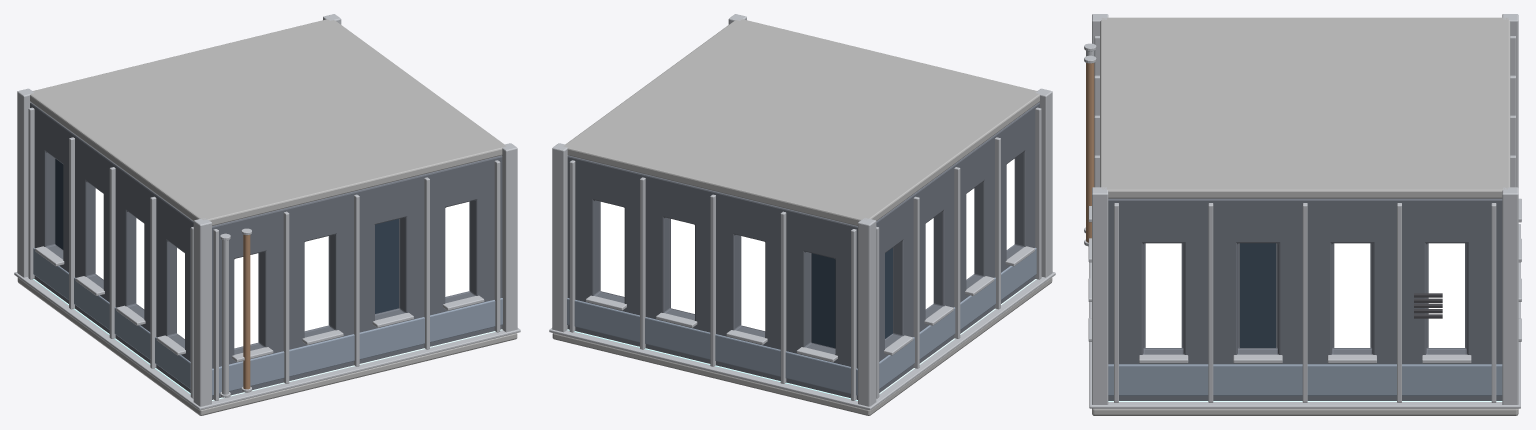
File: office_5x5.glb
The picture shows the model from 3 angles, left to right: view 1: azimuth 30°, elevation 25°; view 2: azimuth 150°, elevation 25°; view 3: azimuth 270°, elevation 25°; orthographic projection. The views are drawn at different scales.
Visible parts, largest first — view 1: int_ceiling, ext_wall, ext_frames, ext_spandrel, int_columns, ext_panes_lit, int_slab_edge, int_slab, ext_panes_dark, ext_pipe1, ext_pipe0, int_grid; view 2: int_ceiling, ext_wall, ext_frames, ext_spandrel, ext_panes_lit, int_columns, int_slab_edge, int_slab, ext_panes_dark, int_grid; view 3: int_ceiling, ext_wall, ext_spandrel, ext_panes_lit, ext_frames, int_columns, ext_panes_dark, int_slab_edge, int_slab, ext_pipe1, ext_vent.
Boxes of the visible parts, <box> form: int_ceiling: <box>30,19,505,225</box>; ext_wall: <box>30,102,502,399</box>; ext_frames: <box>28,107,500,400</box>; ext_spandrel: <box>33,247,502,395</box>; int_columns: <box>17,14,517,406</box>; ext_panes_lit: <box>95,188,469,348</box>; int_slab_edge: <box>14,272,520,410</box>; int_slab: <box>17,277,517,415</box>; ext_panes_dark: <box>55,159,398,313</box>; ext_pipe1: <box>243,235,250,389</box>; ext_pipe0: <box>222,240,228,394</box>; int_grid: <box>33,279,502,400</box>; int_ceiling: <box>563,19,1039,225</box>; ext_wall: <box>567,102,1039,399</box>; ext_frames: <box>569,107,1041,400</box>; ext_spandrel: <box>567,247,1036,395</box>; ext_panes_lit: <box>600,159,1014,330</box>; int_columns: <box>552,14,1052,406</box>; int_slab_edge: <box>549,272,1055,410</box>; int_slab: <box>552,277,1052,415</box>; ext_panes_dark: <box>811,248,892,348</box>; int_grid: <box>567,279,1036,400</box>; int_ceiling: <box>1100,17,1510,198</box>; ext_wall: <box>1108,198,1502,400</box>; ext_spandrel: <box>1108,364,1502,395</box>; ext_panes_lit: <box>1145,243,1464,347</box>; ext_frames: <box>1088,36,1521,402</box>; int_columns: <box>1092,14,1518,404</box>; ext_panes_dark: <box>1240,243,1275,347</box>; int_slab_edge: <box>1089,224,1520,408</box>; int_slab: <box>1092,408,1518,415</box>; ext_pipe1: <box>1086,63,1094,242</box>; ext_vent: <box>1414,293,1442,318</box>.
Size of the model in its own units: 5.28 by 3 by 5.33.
